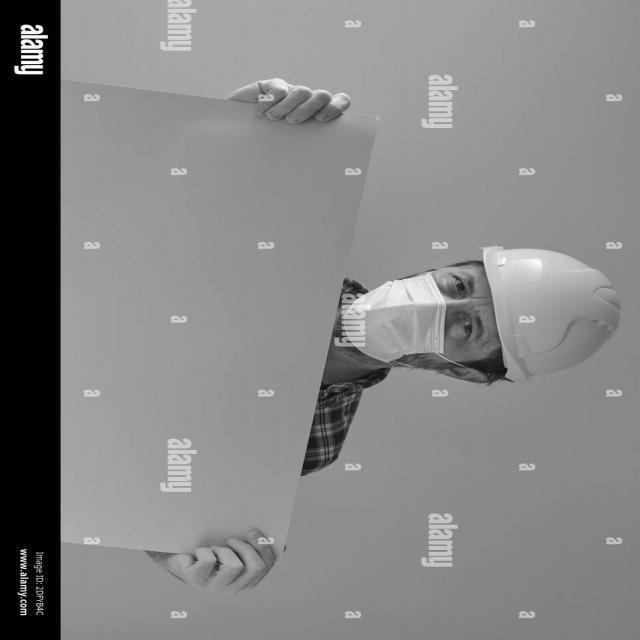safety_helmet: (479, 245, 617, 383)
